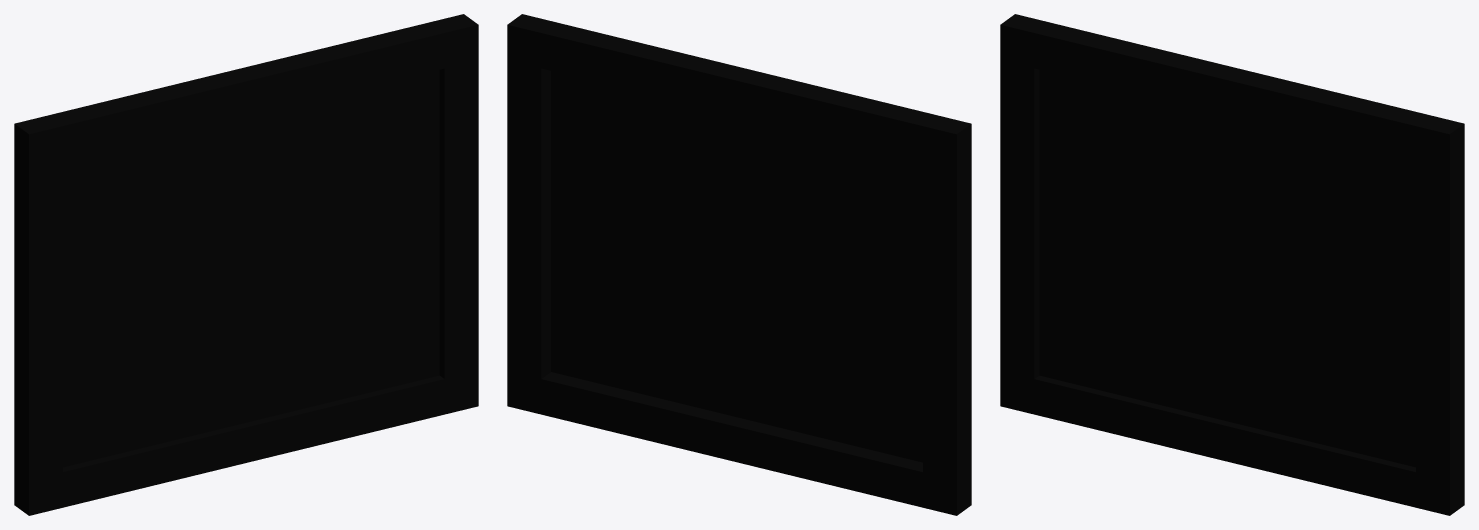
Rendered from SM_portrait_children.fbx.
3 views of the same model, side by side, from view 1: azimuth 30°, elevation 25°; view 2: azimuth 150°, elevation 25°; view 3: azimuth 330°, elevation 25° (orthographic).
Visible parts, largest first — view 1: portrait_children; view 2: portrait_children; view 3: portrait_children.
Part boxes in pixels (left/top/right/bottom): portrait_children: left=14, top=14, right=478, bottom=515; portrait_children: left=507, top=14, right=971, bottom=515; portrait_children: left=1000, top=14, right=1464, bottom=515.
Size of the model in its own units: 1.06 by 0.86 by 0.06.
